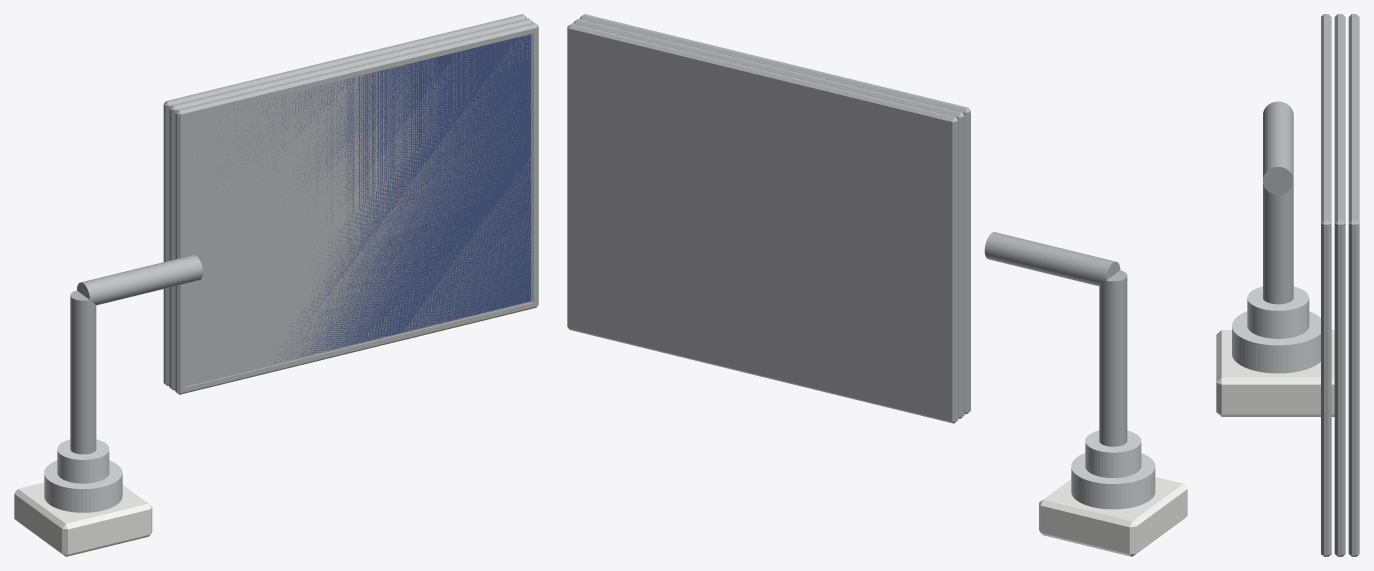
Rendered from ax_power_02_rigid_wing_m.glb.
The picture shows the model from 3 angles, left to right: view 1: azimuth 30°, elevation 25°; view 2: azimuth 150°, elevation 25°; view 3: azimuth 270°, elevation 25°; orthographic projection. The views are drawn at different scales.
Parts seen in each view (by area): view 1: panel_1, panel_1_cells, yoke, mount_block, gimbal, panel_2, panel_3; view 2: panel_3, yoke, mount_block, gimbal, panel_1, panel_2; view 3: panel_2, panel_3, yoke, gimbal, panel_1, mount_block.
Boxes of the visible parts, x1,y1,x2,y2 form: panel_1: (175,22,538,394); panel_1_cells: (197,34,531,363); yoke: (70,255,202,454); mount_block: (14,482,152,556); gimbal: (44,439,122,512); panel_2: (169,18,532,390); panel_3: (163,14,526,385); panel_3: (567,23,958,423); yoke: (984,232,1127,446); mount_block: (1039,477,1187,556); gimbal: (1071,430,1155,509); panel_1: (580,14,970,414); panel_2: (573,18,964,418); panel_2: (1334,14,1345,556); panel_3: (1348,14,1359,556); yoke: (1263,101,1293,304); gimbal: (1232,286,1320,373); panel_1: (1321,14,1331,556); mount_block: (1216,330,1334,416).
Bounding box in the file's own units: 2.3 × 1.59 × 0.4625.
